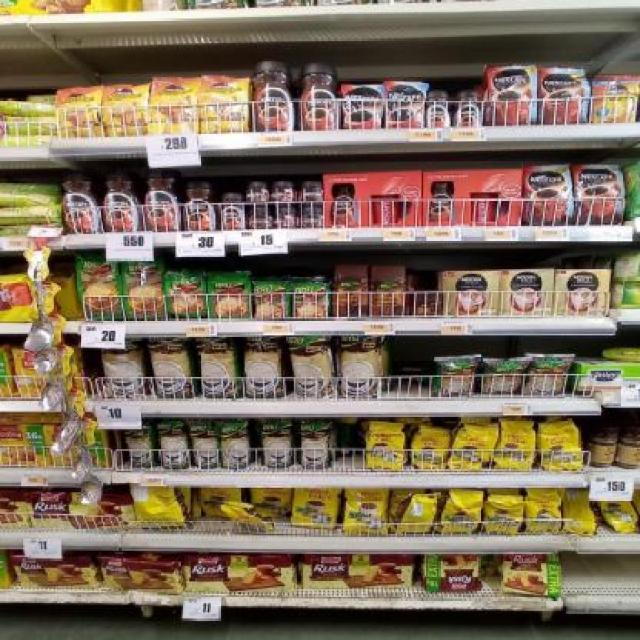Coffee: (253, 61, 296, 132), (299, 64, 343, 131), (575, 165, 624, 224), (523, 166, 572, 225), (487, 66, 535, 123), (538, 69, 588, 123), (200, 77, 248, 133), (102, 172, 141, 234), (56, 87, 102, 139), (152, 78, 196, 132), (61, 173, 101, 232), (104, 85, 148, 136), (143, 172, 180, 231), (592, 80, 636, 123), (343, 84, 384, 128), (386, 83, 425, 129), (184, 179, 216, 230), (217, 192, 246, 230), (454, 91, 483, 127), (426, 90, 452, 127), (250, 206, 273, 229), (273, 205, 297, 227), (301, 205, 323, 227), (248, 181, 271, 202), (300, 180, 322, 200), (273, 181, 295, 200)
